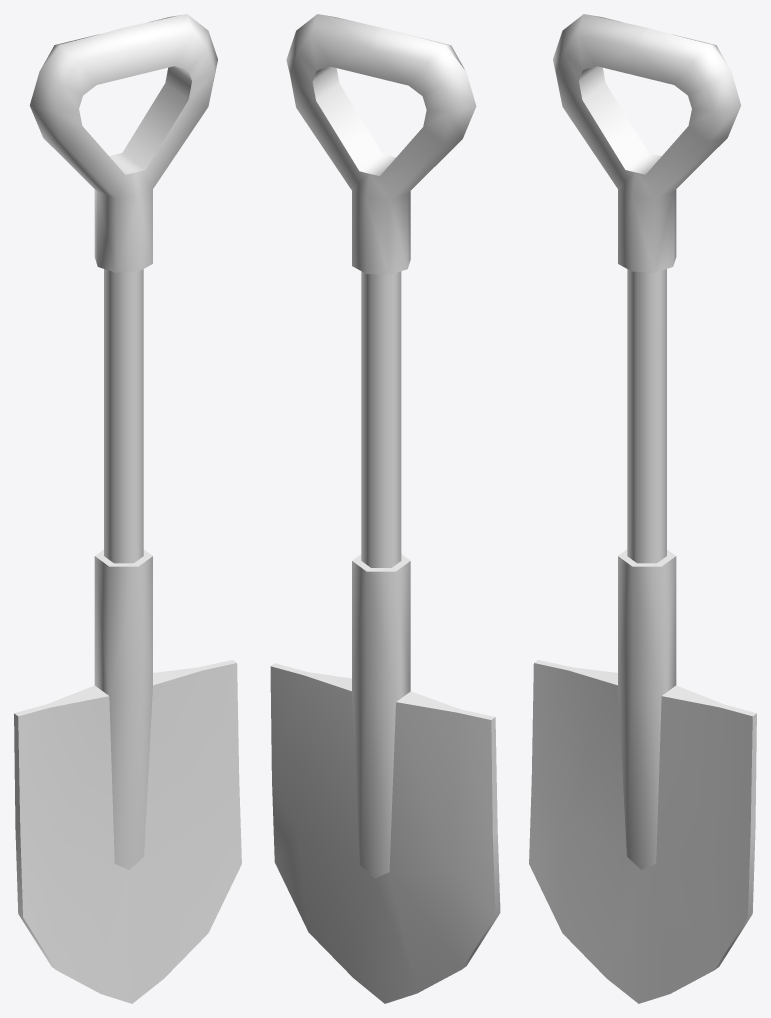
File: Shovel.fbx
The picture shows the model from 3 angles, left to right: view 1: azimuth 30°, elevation 25°; view 2: azimuth 150°, elevation 25°; view 3: azimuth 330°, elevation 25°; orthographic projection.
Parts seen in each view (by area): view 1: Shovel; view 2: Shovel; view 3: Shovel.
Part boxes in pixels (x1,y1,x2,y2): Shovel: (14,14,241,1003); Shovel: (270,14,500,1003); Shovel: (529,14,756,1003).
Bounding box in the file's own units: 33.8 × 143 × 8.07.
